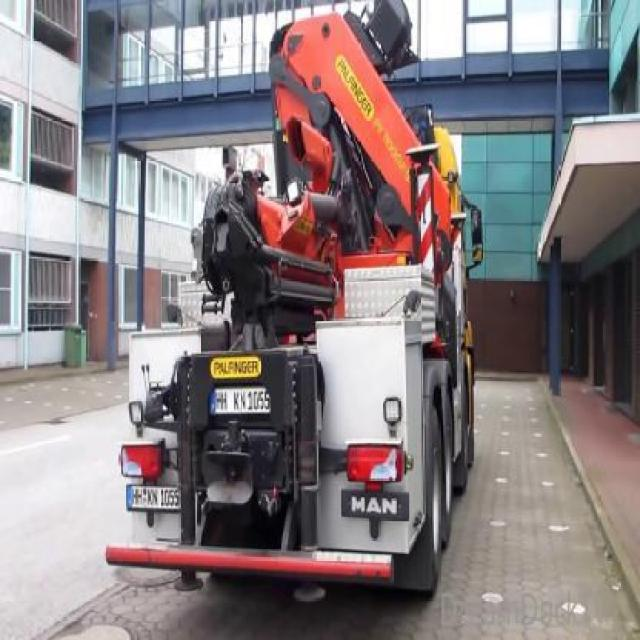Mobile Crane: (112, 14, 476, 597)
